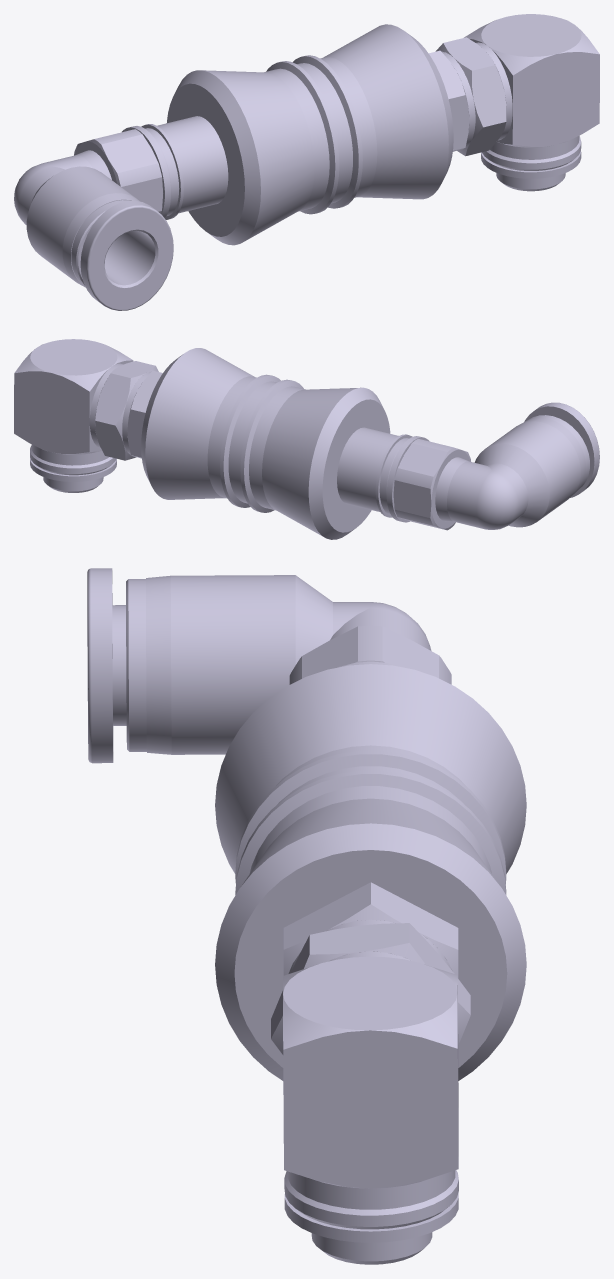
File: Anbringteile.glb
3 renders of one model, top to bottom at view 1: azimuth 30°, elevation 25°; view 2: azimuth 150°, elevation 25°; view 3: azimuth 270°, elevation 25°, orthographic. The views are drawn at different scales.
Visible parts, largest first — view 1: MANIFOLD_SOLID_BREP #1996, Hauptkörper, MechanicalTool.1 (×5), MANIFOLD_SOLID_BREP #1059; view 2: MANIFOLD_SOLID_BREP #1996, Hauptkörper, MechanicalTool.1 (×5), MANIFOLD_SOLID_BREP #1059; view 3: MANIFOLD_SOLID_BREP #1996, MechanicalTool.1 (×2), Hauptkörper, MANIFOLD_SOLID_BREP #1059.
Boxes of the visible parts, box(x1,y1,x2,y2) form: MANIFOLD_SOLID_BREP #1996: box(141, 24, 469, 245); Hauptkörper: box(14, 129, 173, 310); MechanicalTool.1 (×5): box(122, 14, 599, 218); MANIFOLD_SOLID_BREP #1059: box(435, 37, 506, 156); MANIFOLD_SOLID_BREP #1996: box(127, 348, 412, 539); Hauptkörper: box(393, 402, 599, 530); MechanicalTool.1 (×5): box(14, 339, 429, 522); MANIFOLD_SOLID_BREP #1059: box(95, 361, 158, 460); MANIFOLD_SOLID_BREP #1996: box(215, 664, 526, 1080); MechanicalTool.1 (×2): box(283, 956, 458, 1264); Hauptkörper: box(87, 568, 451, 763); MANIFOLD_SOLID_BREP #1059: box(271, 923, 470, 1054).
Bounding box in the file's own units: 0.0917 × 0.0275 × 0.0352.
